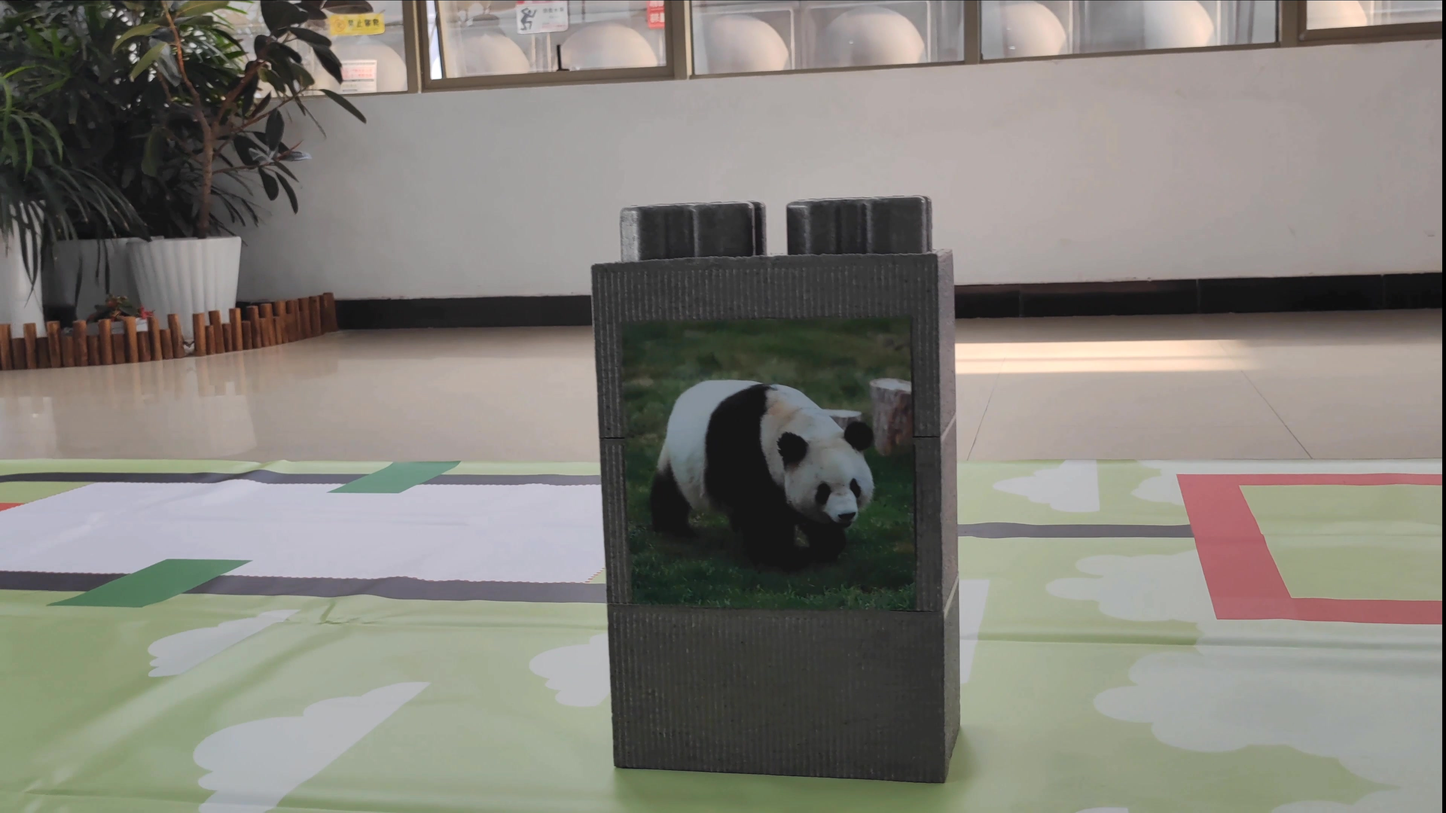panda: (629, 344, 877, 578)
